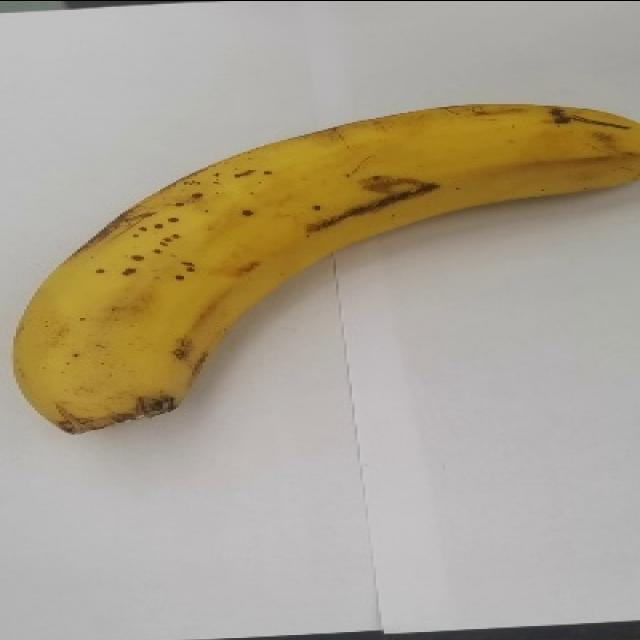Banana: (12, 101, 639, 434)
